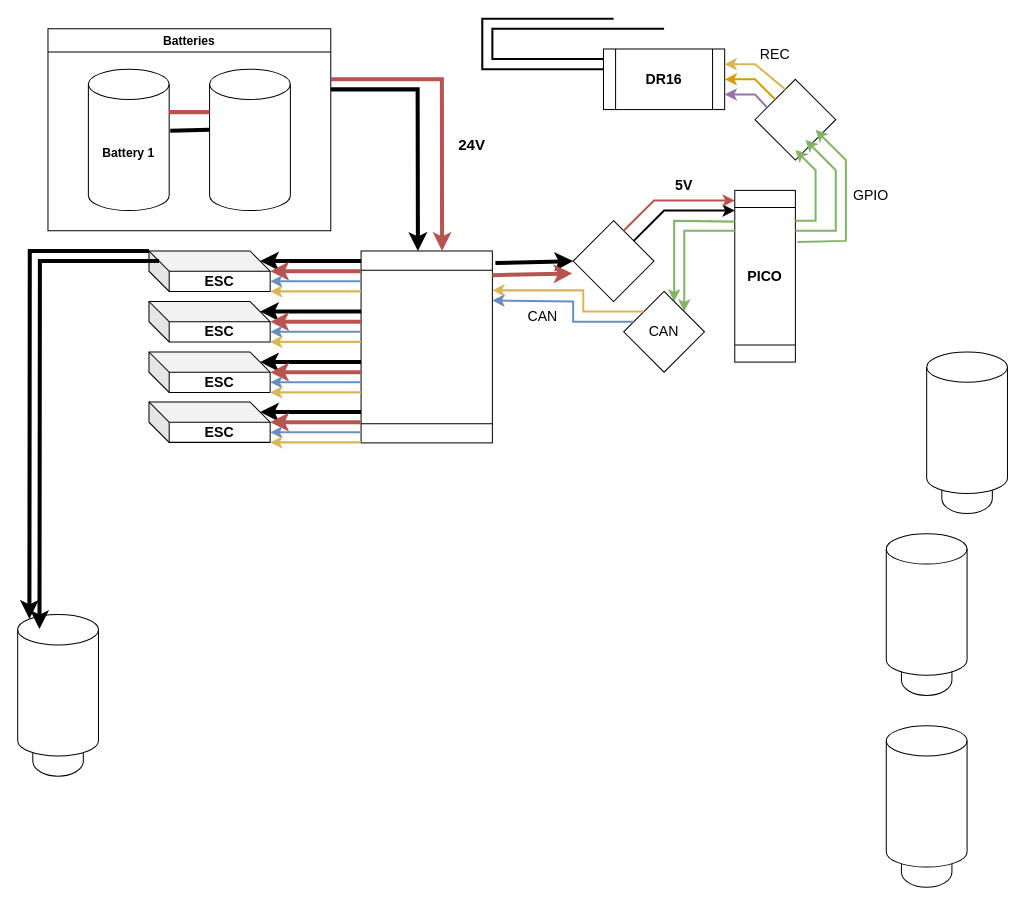
Image size: 1025x905. Some labels were removed from this diagram. Here are the shapes that lost their labels. From the top down, the centre of each, then its label:
the point at 249,139: Battery 2
the point at 795,119: RC
the point at 613,260: 24V->5V
the point at 426,346: PDB
